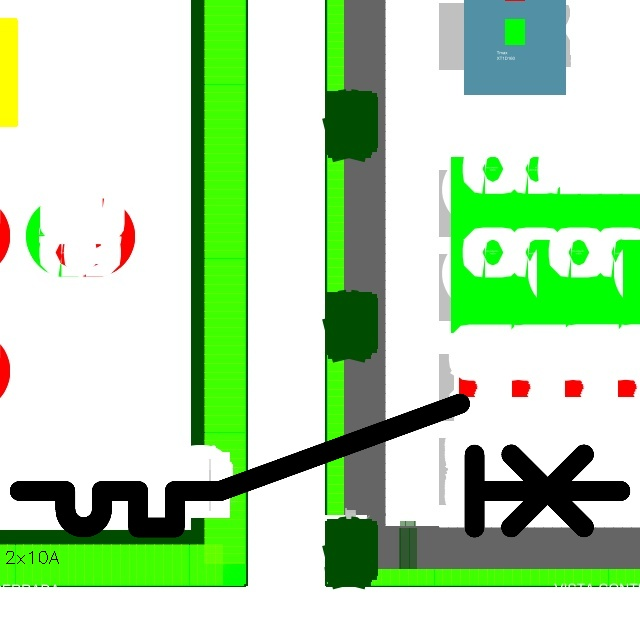interruptor_termomagnetico: (4, 388, 636, 543)
